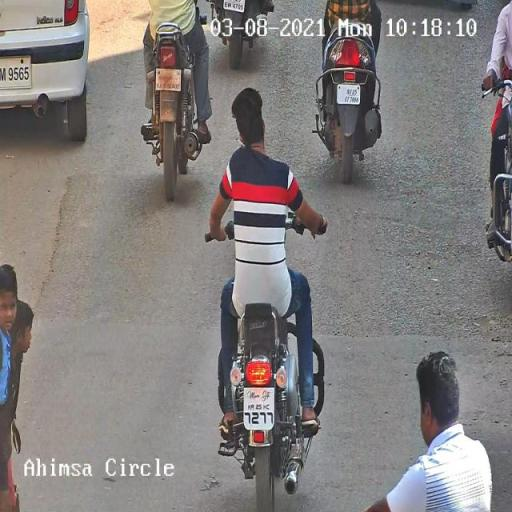using mobile: (236, 133, 250, 150)
